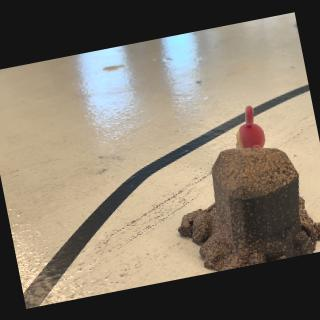teletubby: (235, 105, 265, 148)
